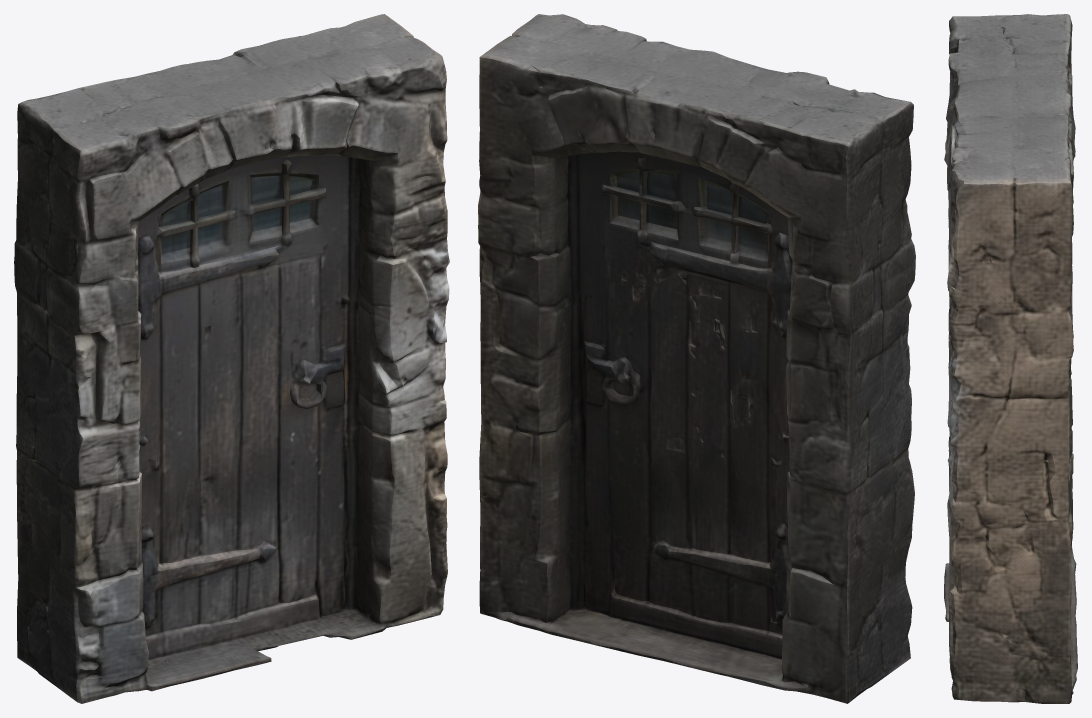
3 renders of one model, left to right at view 1: azimuth 30°, elevation 25°; view 2: azimuth 150°, elevation 25°; view 3: azimuth 270°, elevation 25°, orthographic. The views are drawn at different scales.
Parts seen in each view (by area): view 1: world; view 2: world; view 3: world.
Boxes of the visible parts, x1=… form: world: x1=14, y1=14, x2=449, y2=703; world: x1=478, y1=14, x2=915, y2=703; world: x1=944, y1=14, x2=1077, y2=703.
Bounding box in the file's own units: 2 × 2.84 × 0.6588.
1 material, 1 textured.
